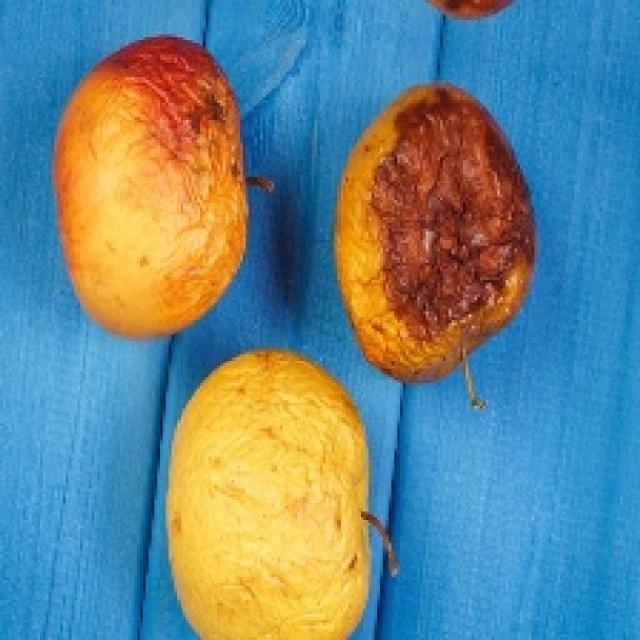rotten_apple: (56, 39, 242, 335), (340, 91, 530, 374), (170, 379, 368, 636)
